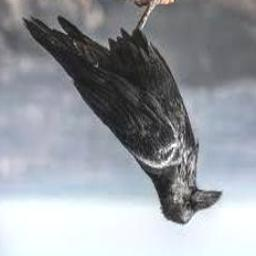Crow: (21, 0, 222, 226)
